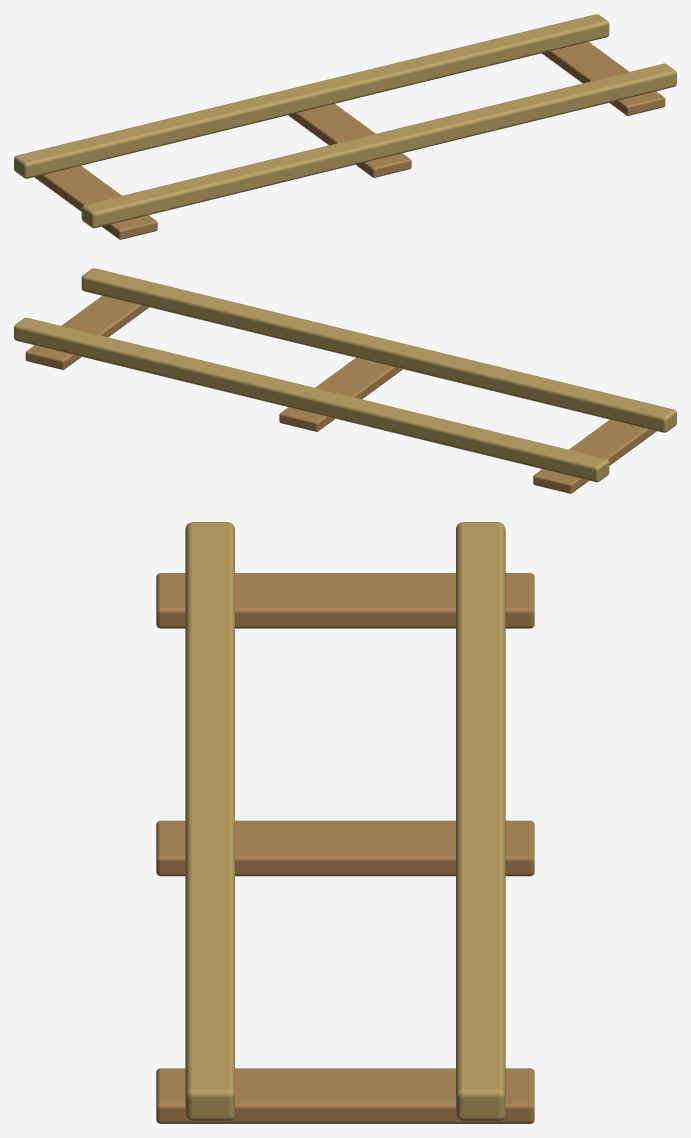
Rendered from abandoned-puppet-theatre-and-prop-vault-scenery-track--6838572e.glb.
The picture shows the model from 3 angles, top to bottom: view 1: azimuth 30°, elevation 25°; view 2: azimuth 150°, elevation 25°; view 3: azimuth 270°, elevation 25°; orthographic projection. The views are drawn at different scales.
Parts seen in each view (by area): view 1: scenery-track-straight_0, scenery-track-straight_1; view 2: scenery-track-straight_0, scenery-track-straight_1; view 3: scenery-track-straight_0, scenery-track-straight_1.
Boxes of the visible parts, x1,y1,x2,y2 form: scenery-track-straight_0: (14, 14, 676, 228); scenery-track-straight_1: (34, 42, 665, 239); scenery-track-straight_0: (14, 268, 676, 482); scenery-track-straight_1: (25, 296, 656, 493); scenery-track-straight_0: (185, 522, 505, 1121); scenery-track-straight_1: (156, 573, 534, 1123).
Bounding box in the file's own units: 1.5 × 0.0649 × 0.42.
